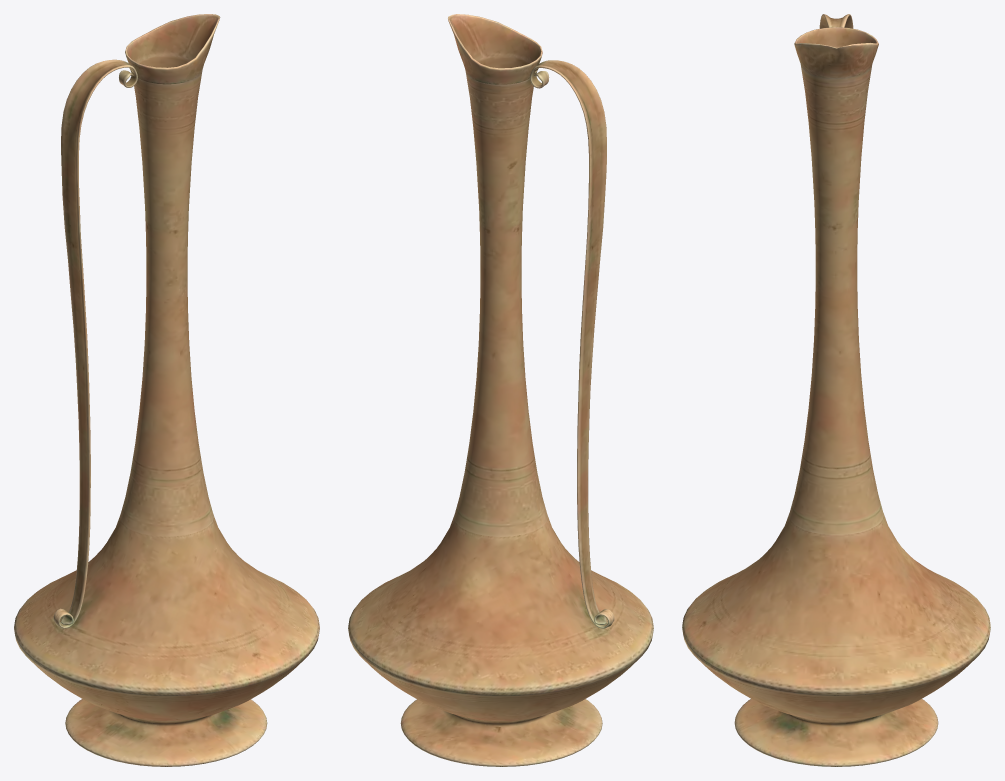
Rendered from brass_vase_02.glb.
The picture shows the model from 3 angles, left to right: view 1: azimuth 30°, elevation 25°; view 2: azimuth 150°, elevation 25°; view 3: azimuth 270°, elevation 25°; orthographic projection.
Parts seen in each view (by area): view 1: brass_vase_02; view 2: brass_vase_02; view 3: brass_vase_02.
Boxes of the visible parts, x1,y1,x2,y2 form: brass_vase_02: (14,14,319,766); brass_vase_02: (348,14,653,766); brass_vase_02: (682,14,990,766).
Size of the model in its own units: 0.2102 by 0.5286 by 0.2102.
Materials: 1 (1 with a texture image).
